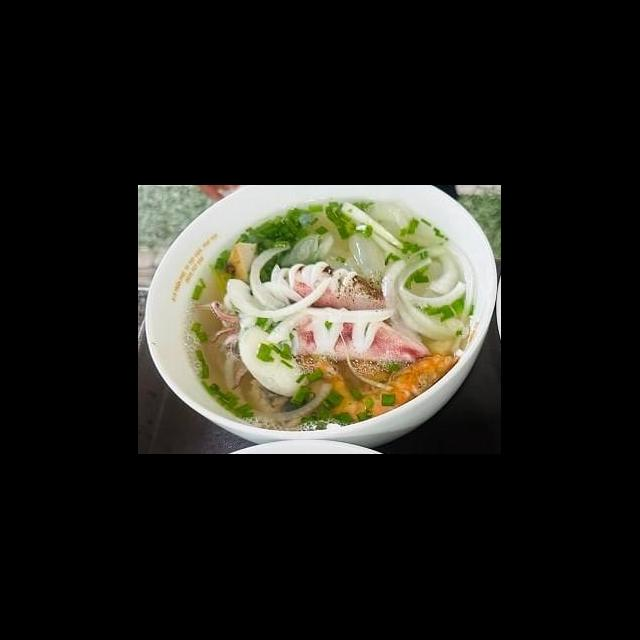bun: (380, 242, 478, 346)
muc: (220, 304, 436, 392), (194, 258, 393, 346)
